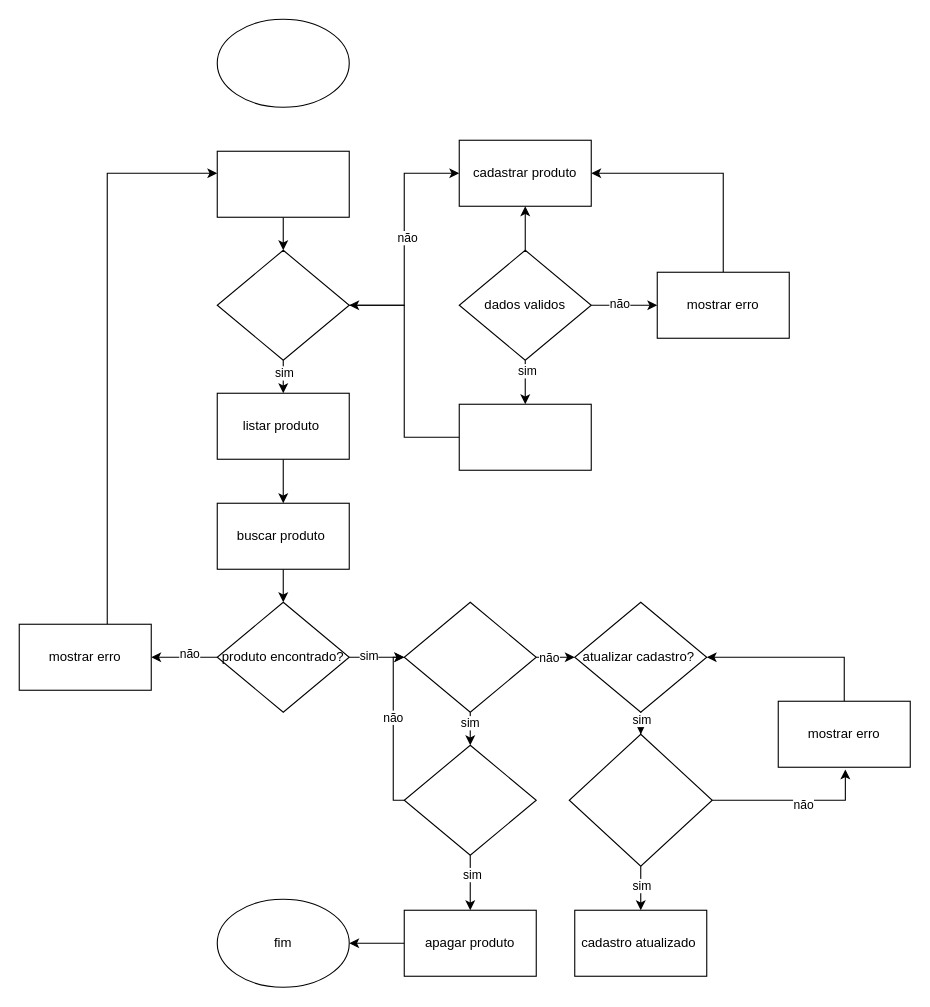
Some shapes in this 930 by 1007 pixel diagram are drawn without their labels. The shapes that lost their labels are listed below. From the top down, each one's box as (x1, y1, x2, y2) in pixels, then its label:
(216, 150, 349, 217): cadastro de produtos
(216, 249, 349, 360): tem cadastro ?
(458, 403, 591, 470): cadastro realizado
(403, 601, 536, 712): apagar?
(403, 744, 536, 855): confirmar?
(568, 733, 712, 866): dados do produto são validos?
